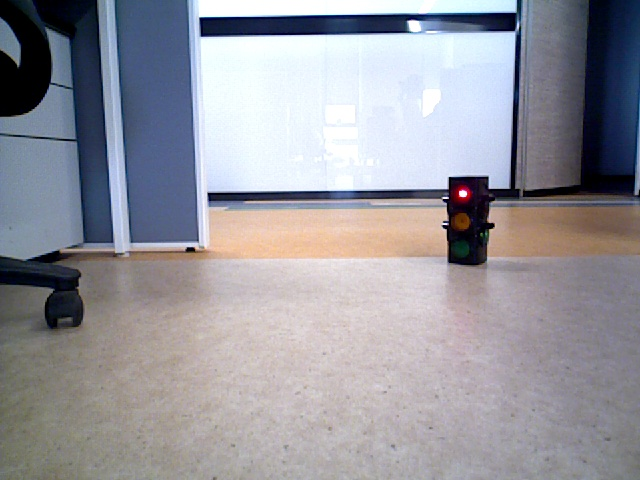red: (451, 177, 483, 261)
